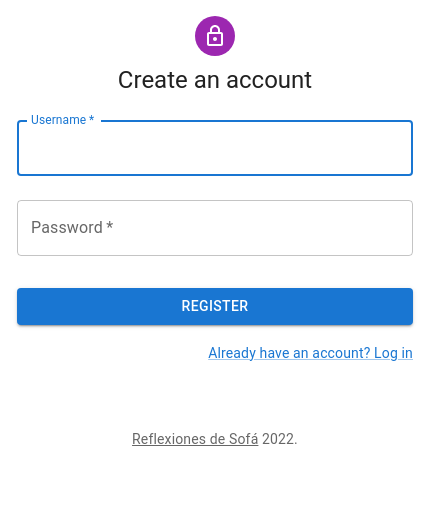
Display error when register button is clicked with empty username.
Step 1. Click the button with test id "register-button" → x=215, y=306, box [17, 288, 413, 324]
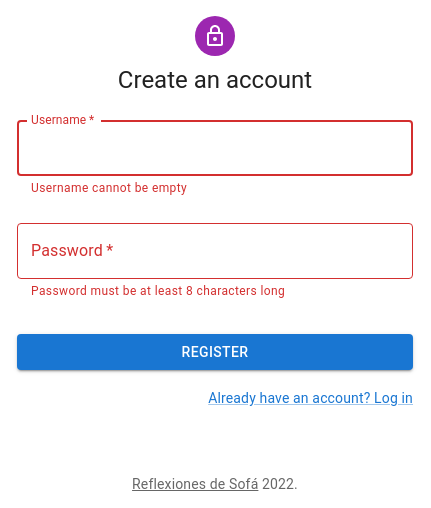
Check: the text with id "username-helper-text" reads "Username cannot be empty", box [31, 181, 187, 195]
